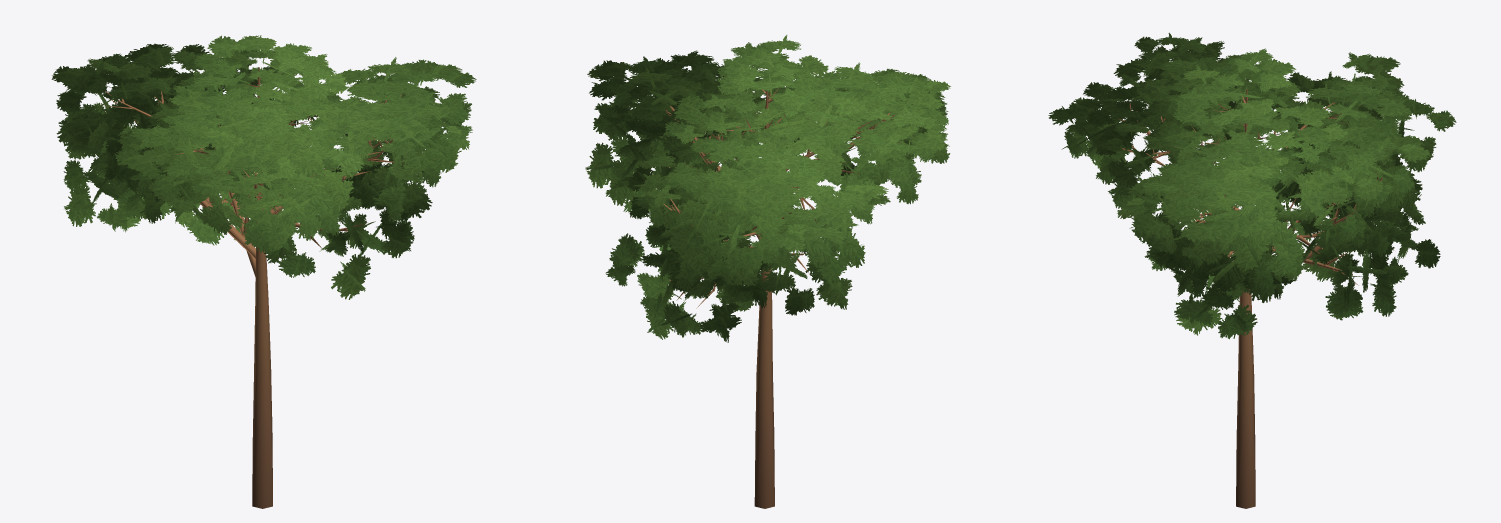
The model's file is pinonero.glb.
The picture shows the model from 3 angles, left to right: view 1: azimuth 30°, elevation 25°; view 2: azimuth 150°, elevation 25°; view 3: azimuth 270°, elevation 25°; orthographic projection. The views are drawn at different scales.
Visible parts, largest first — view 1: pinonero; view 2: pinonero; view 3: pinonero.
Part boxes in pixels (x1,y1,x2,y2): pinonero: (51, 35, 476, 508); pinonero: (585, 35, 950, 508); pinonero: (1048, 32, 1456, 508).
Bounding box in the file's own units: 12.91 × 14 × 13.18.
2 materials, 1 textured.
